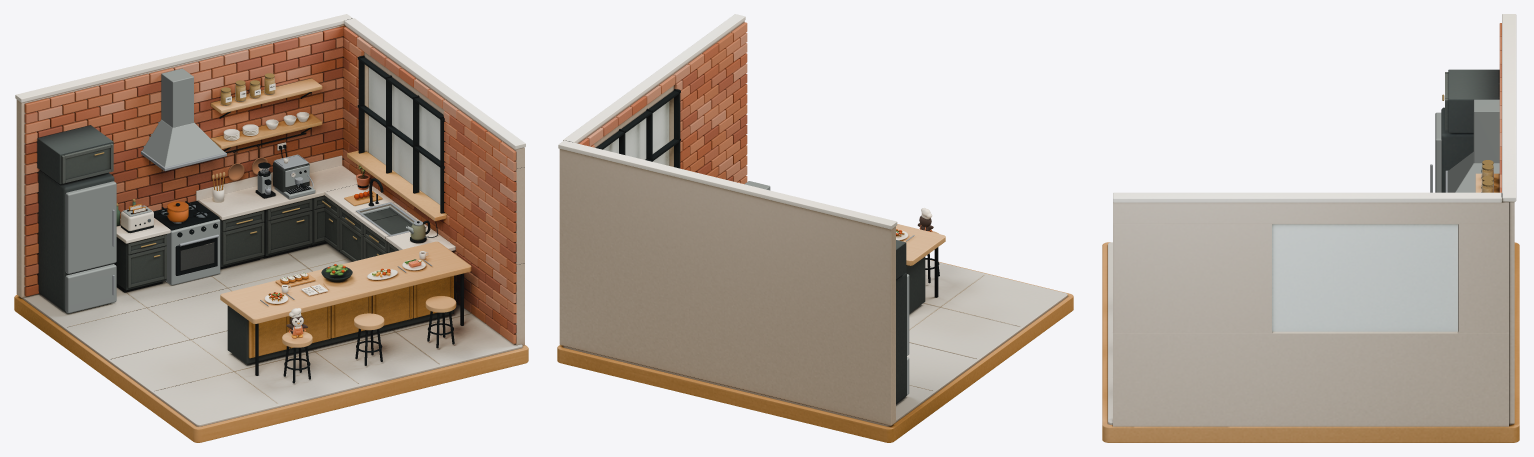
The model's file is brick-kitchen-baked.glb.
3 views of the same model, side by side, from view 1: azimuth 30°, elevation 25°; view 2: azimuth 150°, elevation 25°; view 3: azimuth 270°, elevation 25° (orthographic). The views are drawn at different scales.
Parts seen in each view (by area): view 1: Baked brick-kitchen architecture, Baked brick-kitchen details, Live glass and reflective metal; view 2: Baked brick-kitchen architecture, Baked brick-kitchen details, Live glass and reflective metal; view 3: Baked brick-kitchen architecture, Live glass and reflective metal, Baked brick-kitchen details.
Part boxes in pixels (box(x1,y1,x2,y2)): Baked brick-kitchen architecture: box(14, 14, 528, 442); Baked brick-kitchen details: box(24, 26, 516, 383); Live glass and reflective metal: box(65, 68, 431, 313); Baked brick-kitchen architecture: box(557, 14, 1073, 442); Baked brick-kitchen details: box(579, 22, 939, 283); Live glass and reflective metal: box(744, 181, 914, 395); Baked brick-kitchen architecture: box(1102, 14, 1519, 442); Live glass and reflective metal: box(1430, 94, 1499, 192); Baked brick-kitchen details: box(1445, 23, 1501, 192).
Bounding box in the file's own units: 6.2 × 3.82 × 5.9.
9 materials, 2 textured.
